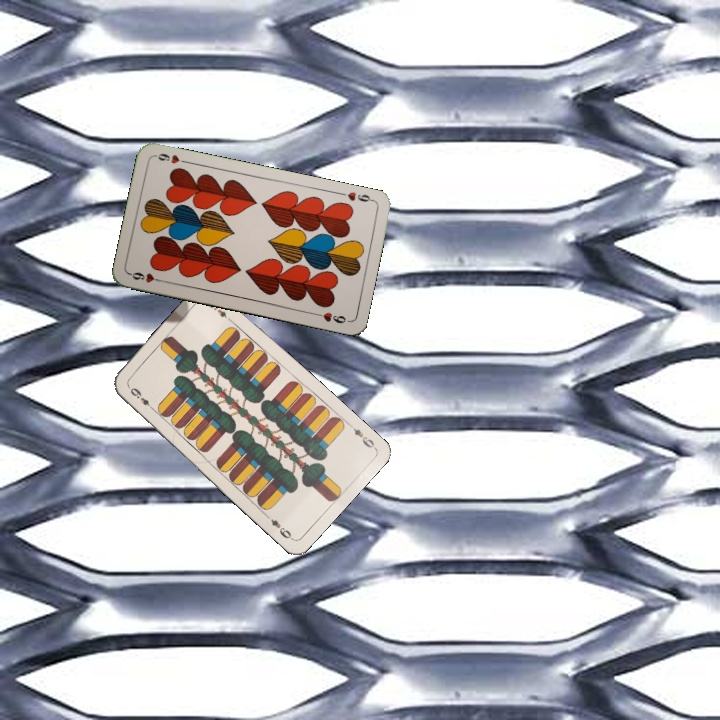E9: (124, 382, 157, 414), (345, 420, 378, 451)
H9: (126, 268, 166, 285), (344, 188, 376, 205)
